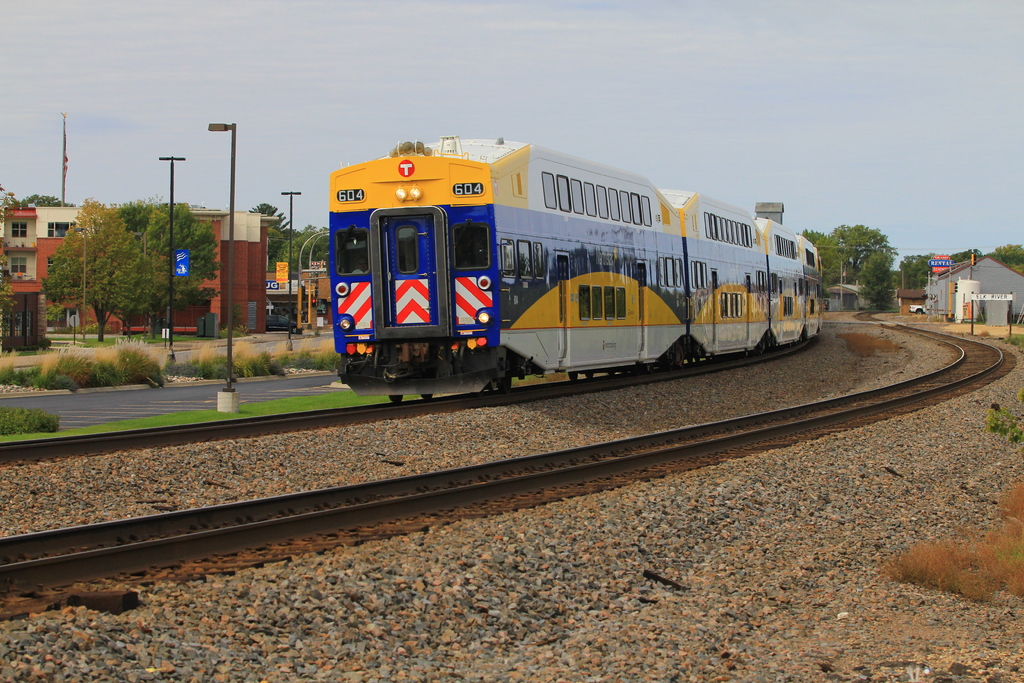train: (330, 139, 824, 394)
